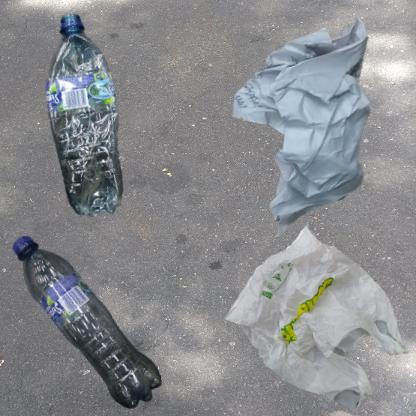bolsa: (213, 213, 416, 416)
botella: (10, 10, 188, 256), (10, 213, 181, 416)
papel: (213, 10, 416, 259)
